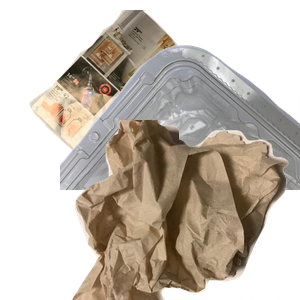glass: (98, 120, 286, 300)
paper: (27, 10, 230, 190)
plastic: (60, 43, 300, 223)
trash: (70, 120, 300, 300)
